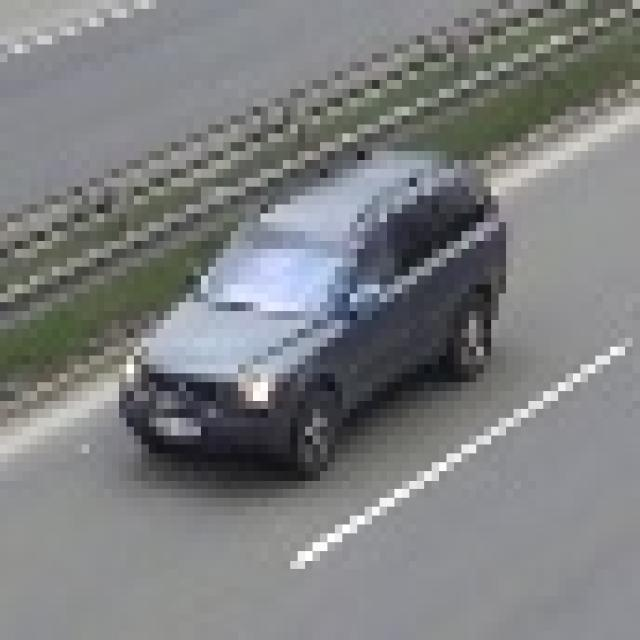SUV: (124, 170, 484, 461)
